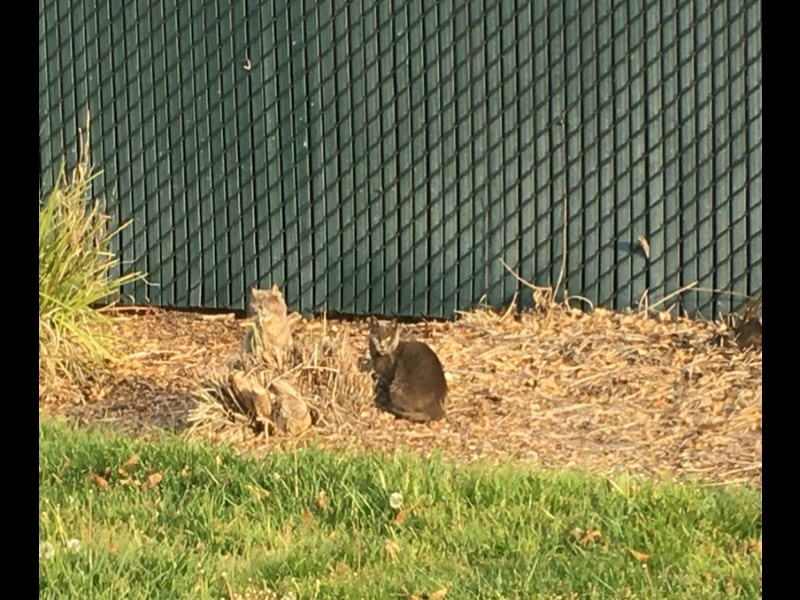cat: (365, 311, 450, 424)
